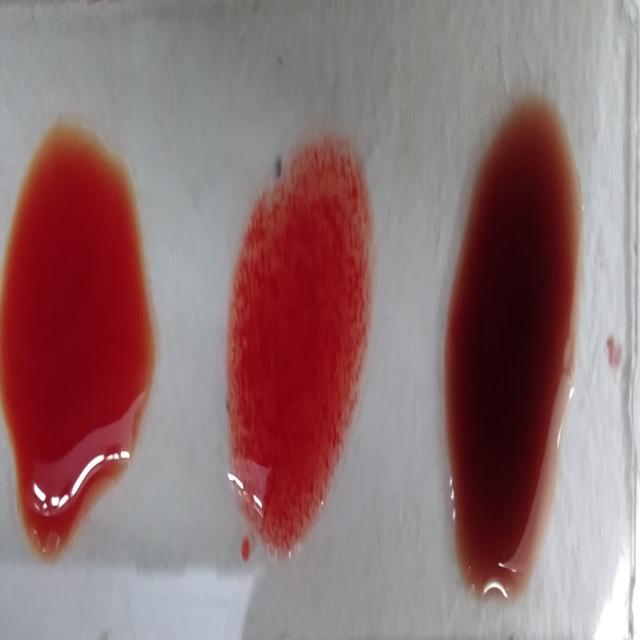D: (231, 139, 373, 550)
